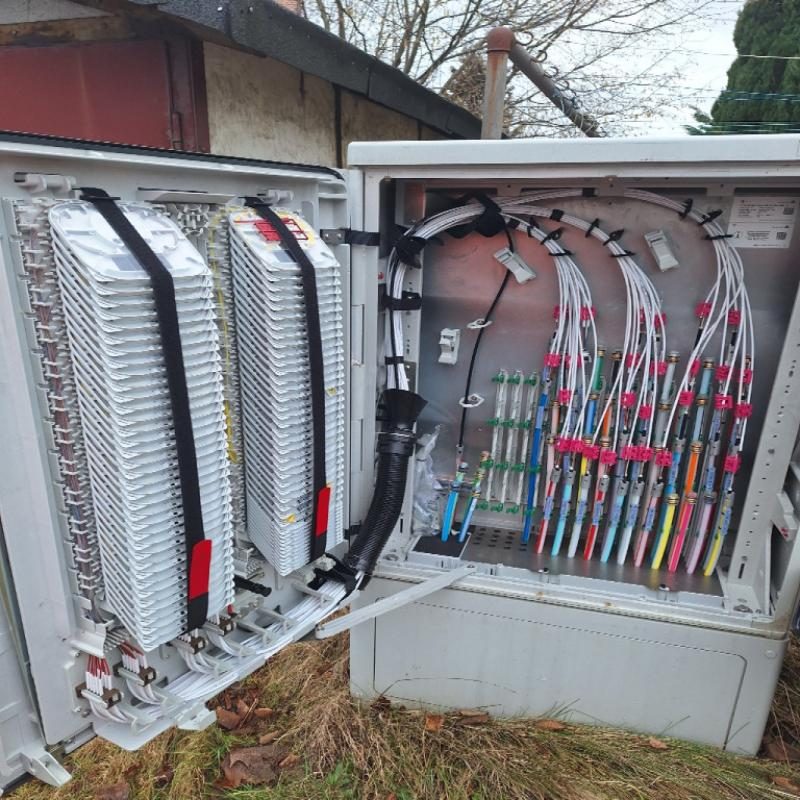NT-Gehause: (0, 133, 799, 786)
Spleiskassetten: (34, 193, 247, 660), (227, 201, 353, 576)
